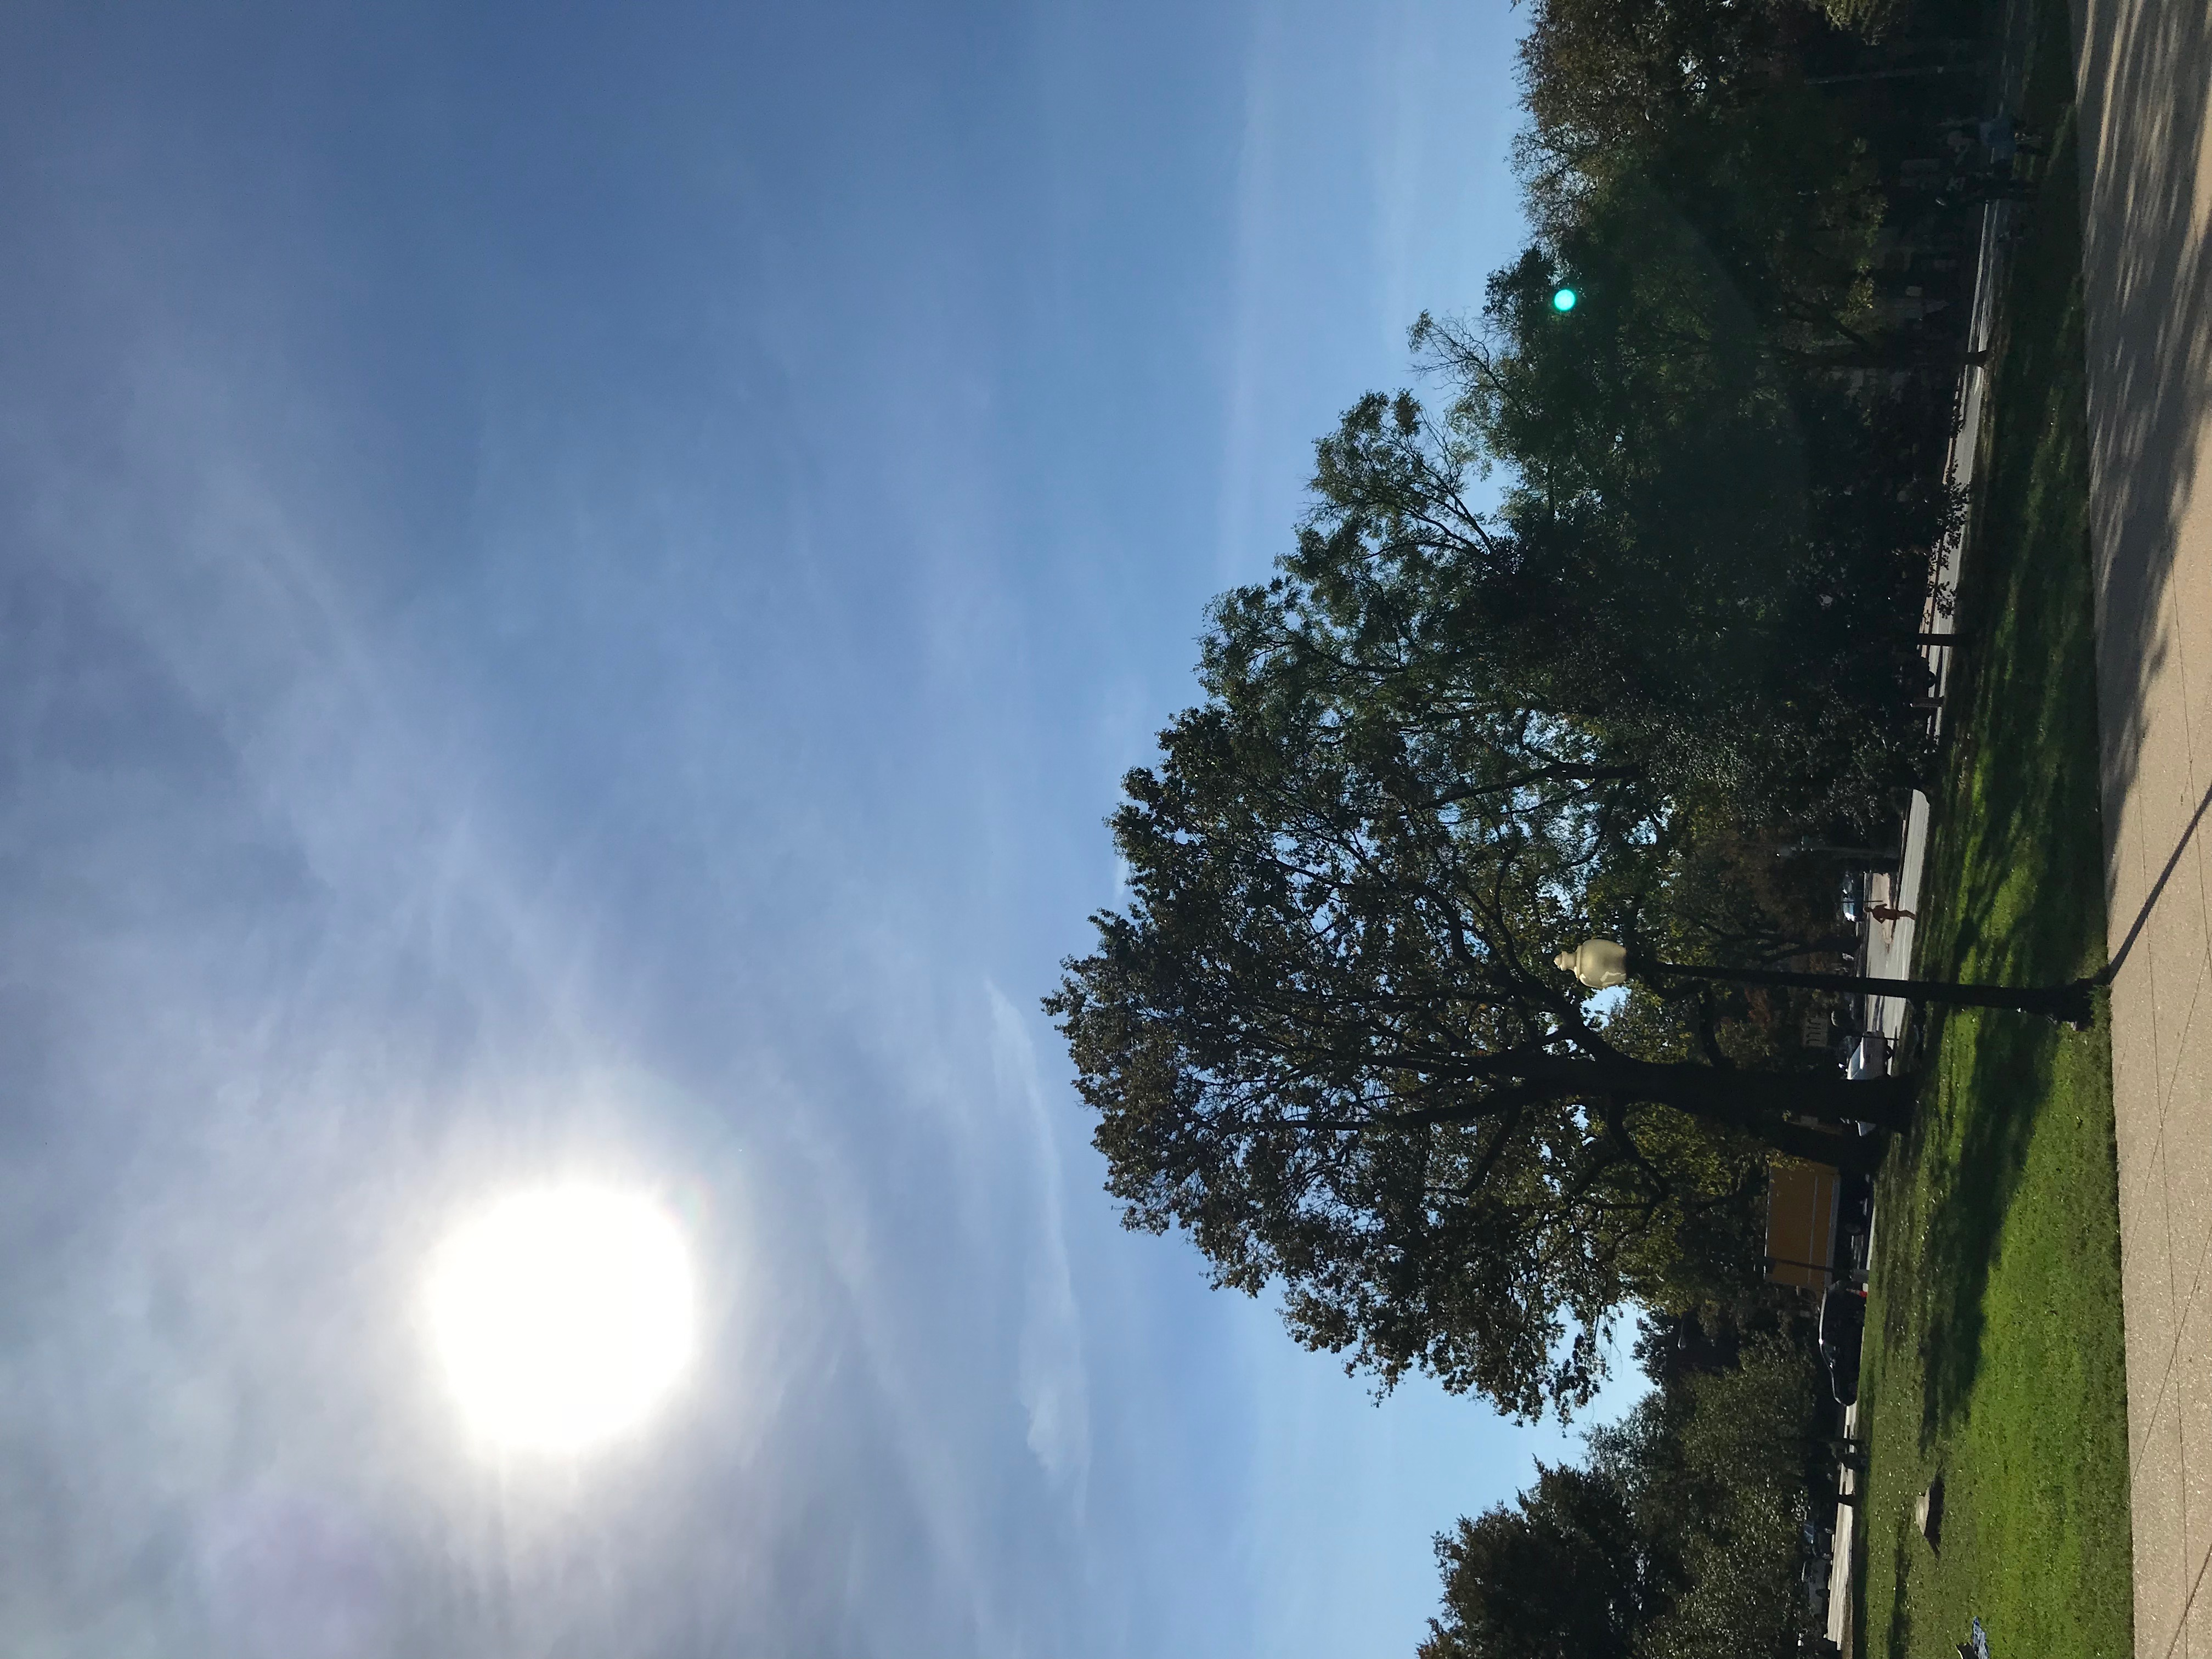flare: (1552, 288, 1578, 314)
